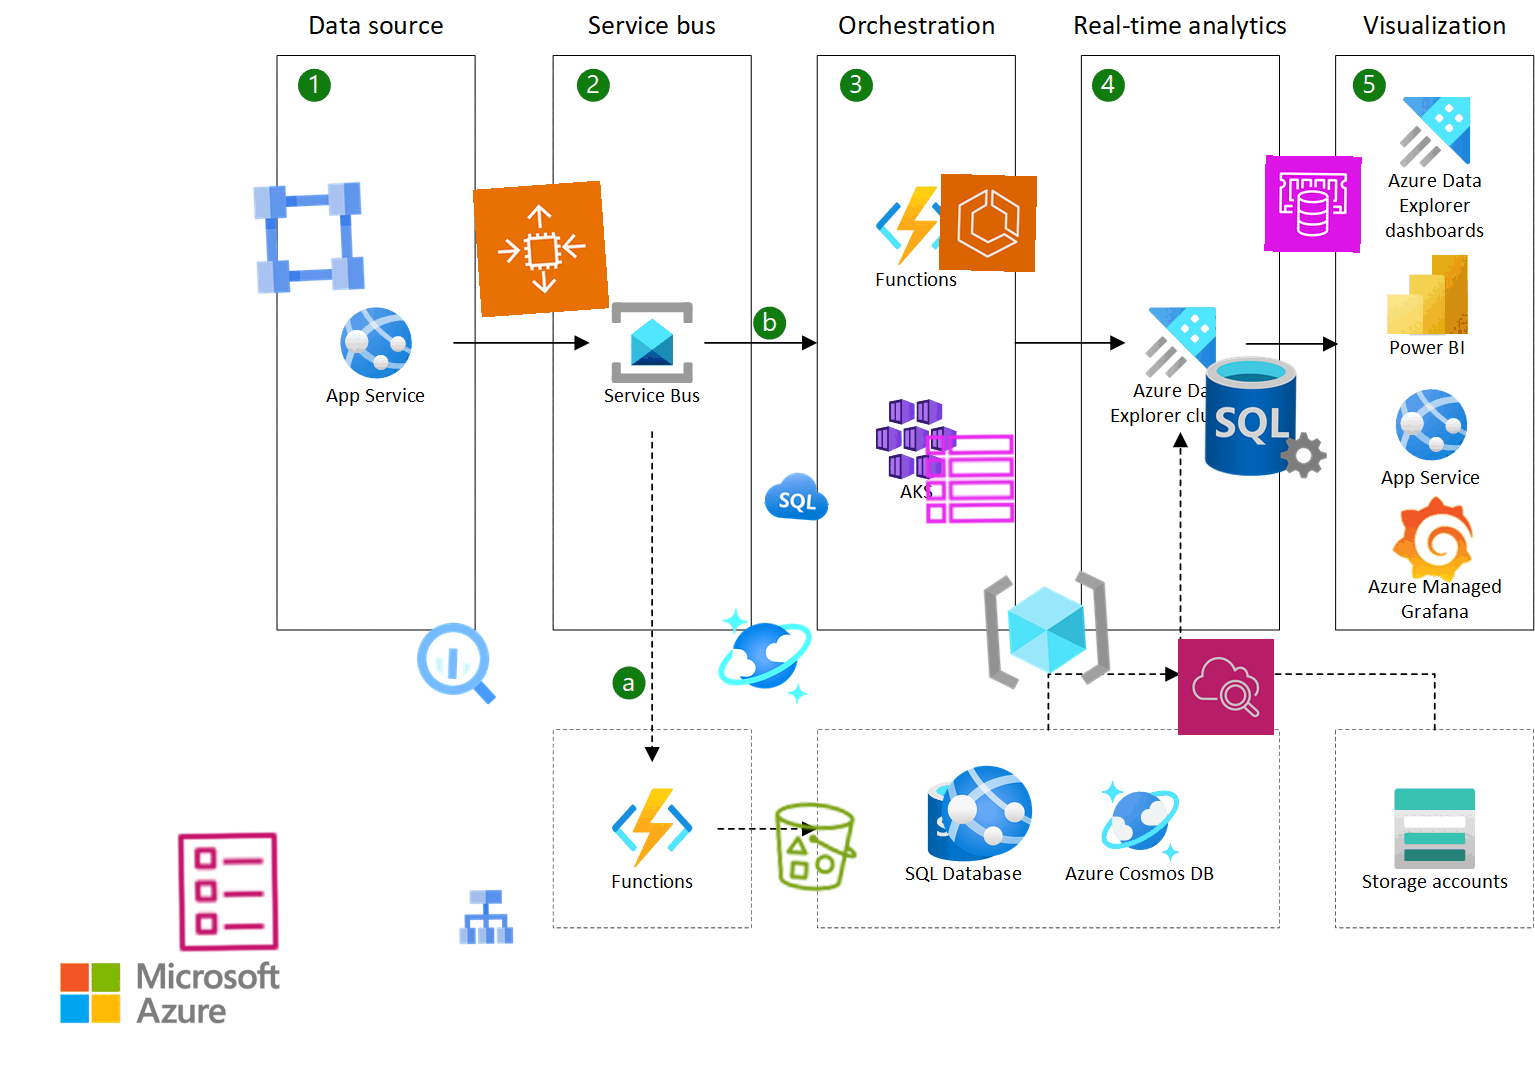aws_amazon_cloudwatch: (1176, 638, 1275, 736)
aws_amazon_ec2_auto_scaling: (472, 180, 610, 318)
aws_amazon_elastic_container_service: (939, 173, 1038, 273)
aws_amazon_elasticache: (1264, 155, 1362, 253)
aws_cloudformation_template: (161, 826, 293, 958)
aws_dynamodb_table: (921, 430, 1019, 527)
aws_simple_storage_service_bucket_with_objects: (763, 795, 867, 899)
azure_app_services: (939, 762, 1036, 860)
azure_cosmos_db: (712, 604, 817, 708)
azure_resource_groups: (978, 561, 1116, 699)
azure_sql: (762, 462, 832, 532)
azure_sql_server: (1201, 352, 1331, 482)
gcp_bigquery: (407, 613, 507, 713)
gcp_cloud_load_balancing: (453, 884, 519, 951)
gcp_virtual_private_cloud: (243, 171, 376, 305)
